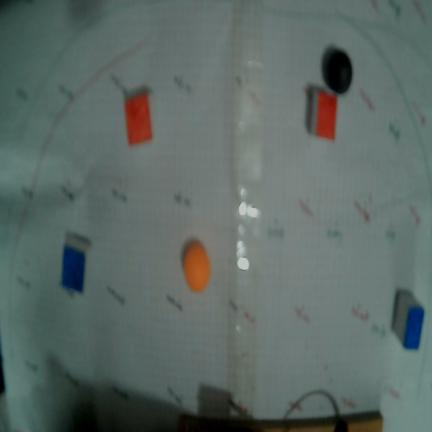circle_blue: (322, 45, 353, 94)
circle_orange: (183, 242, 210, 292)
rectangle_blue: (404, 307, 424, 350)
rectangle_orange: (315, 91, 338, 139)
square_blue: (62, 245, 85, 292)
square_orange: (125, 93, 152, 145)
